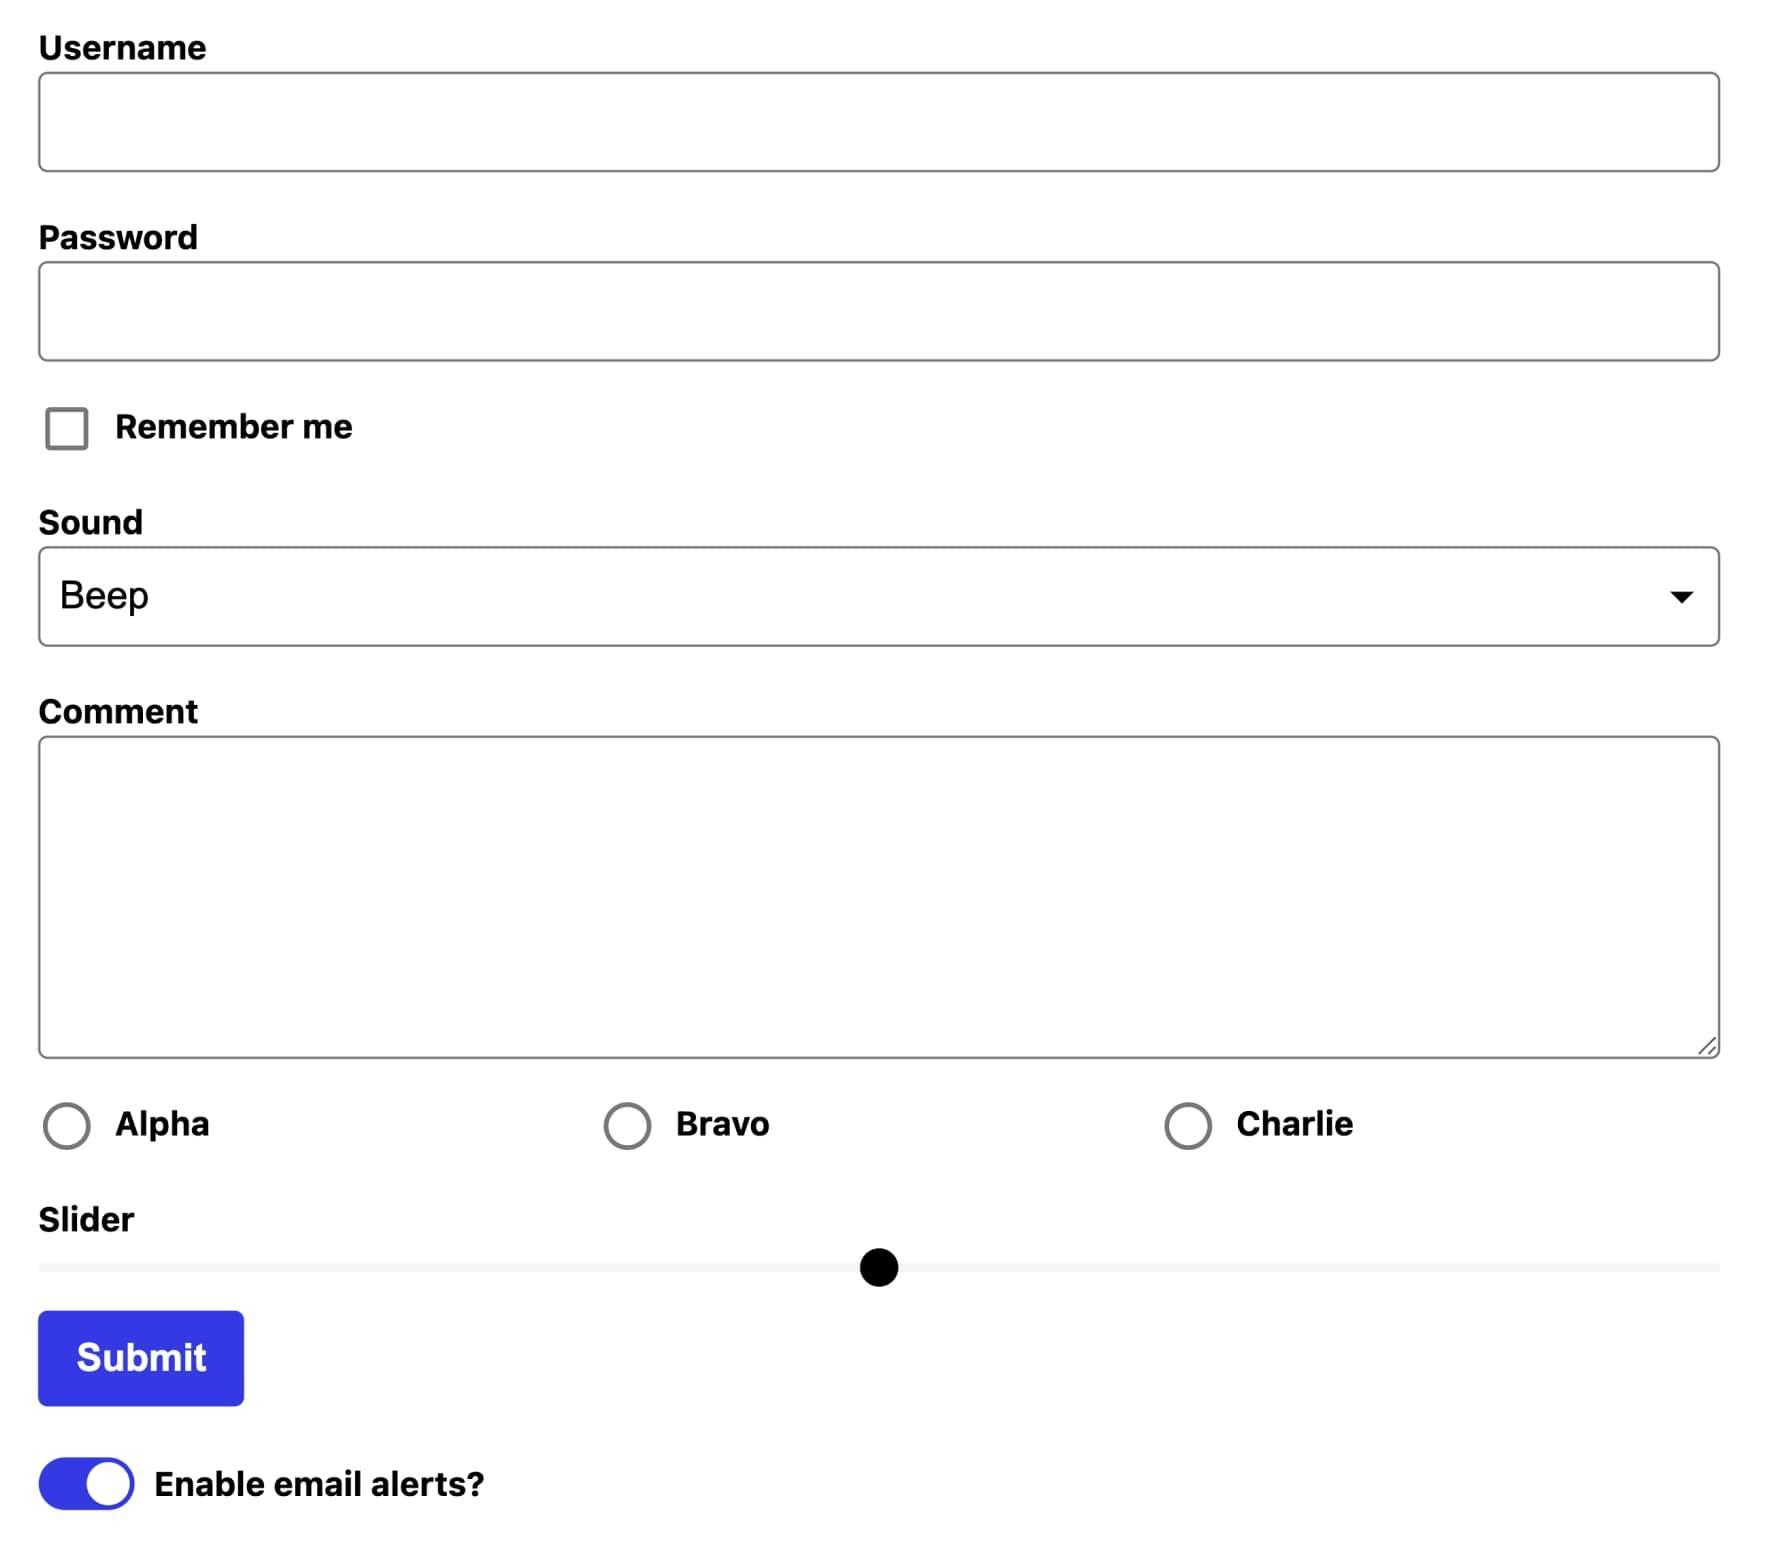button: (38, 1312, 245, 1410)
checkbox: (47, 410, 90, 452)
dropdown: (38, 546, 1723, 649)
input: (38, 71, 1712, 174), (39, 262, 1720, 361)
label: (150, 1461, 492, 1518), (111, 403, 365, 454), (32, 204, 213, 254), (27, 27, 216, 71), (29, 691, 213, 727), (110, 1097, 218, 1154), (669, 1096, 785, 1145), (27, 497, 147, 543), (1233, 1105, 1364, 1145)
radio: (35, 1091, 98, 1160), (1159, 1091, 1225, 1153), (600, 1102, 658, 1156)
slider: (23, 1232, 1748, 1299)
switch: (32, 1456, 135, 1518)
